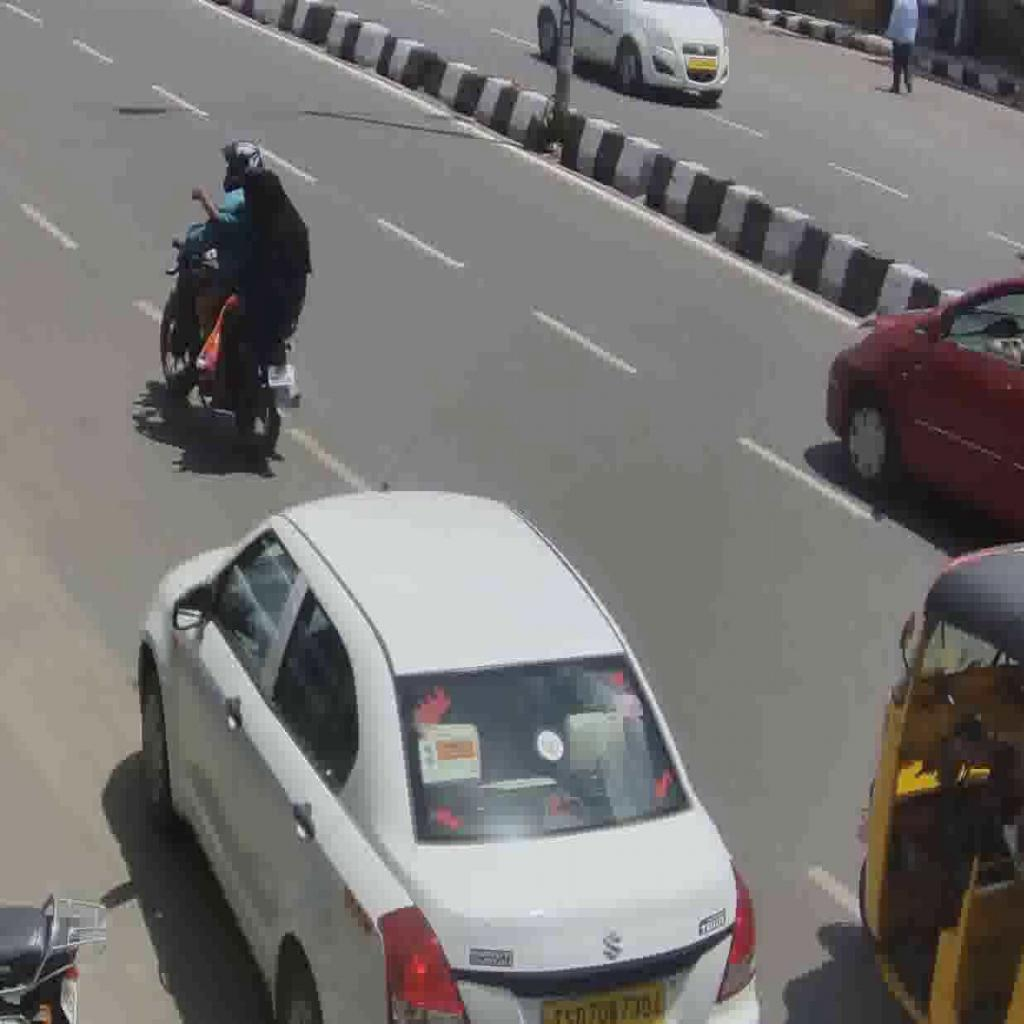helmet: (160, 219, 304, 462)
